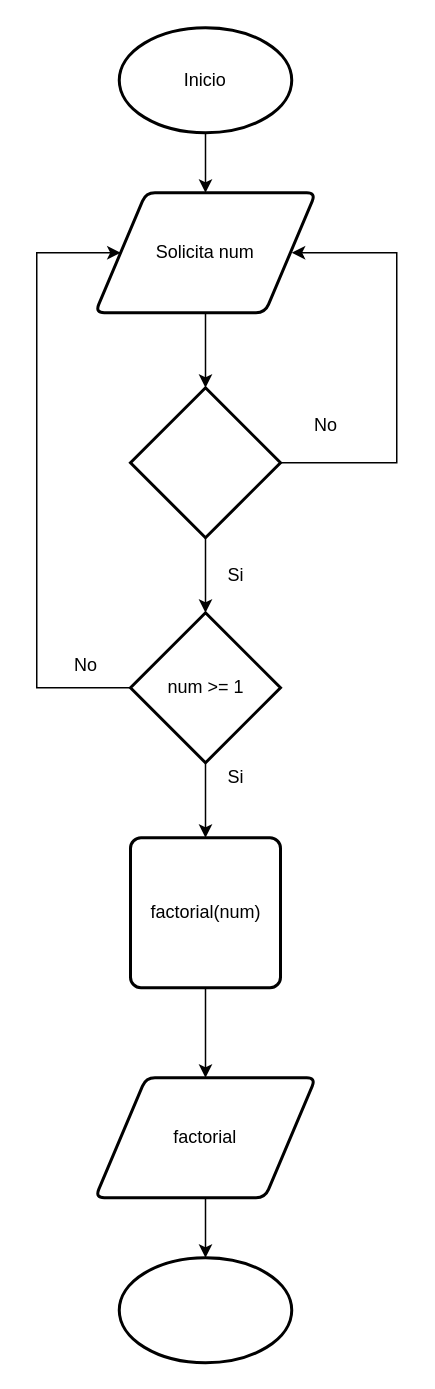
Some shapes in this 435 by 1389 pixel diagram are drawn without their labels. The shapes that lost their labels are listed below. From the top down, each one's centre as x and y in pixels, then its label:
At pixel 204 462: "input es num?".
At pixel 204 1310: "Fin".
